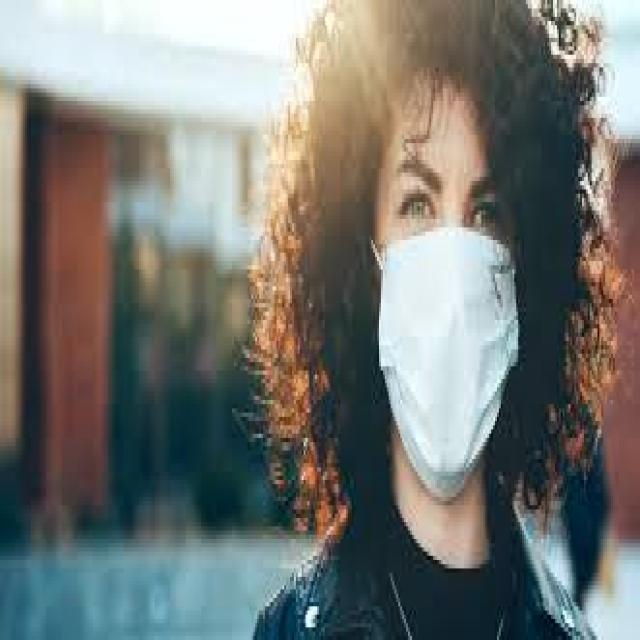1_mascarilla: (369, 223, 520, 497)
